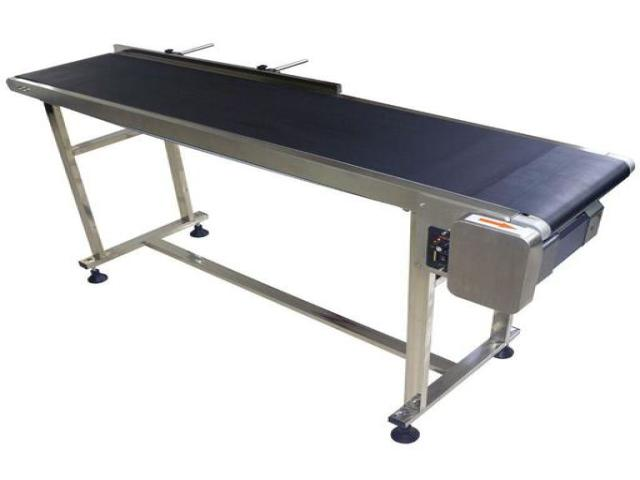conveyor: (4, 41, 636, 444)
